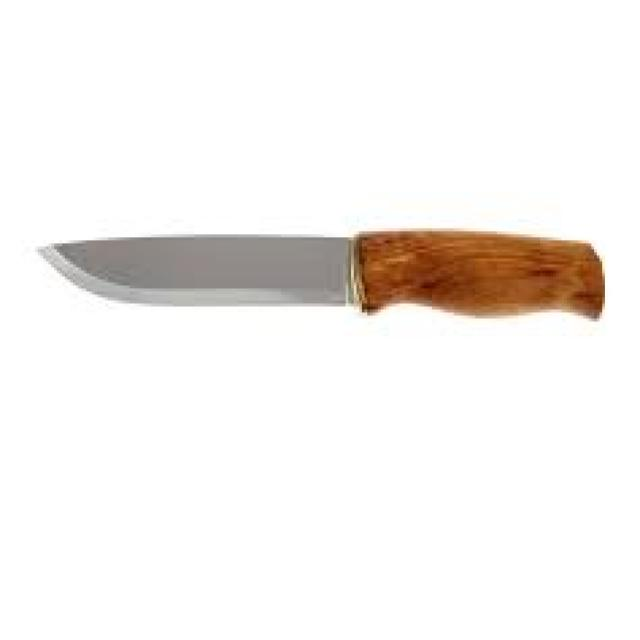knife: (27, 221, 616, 347)
